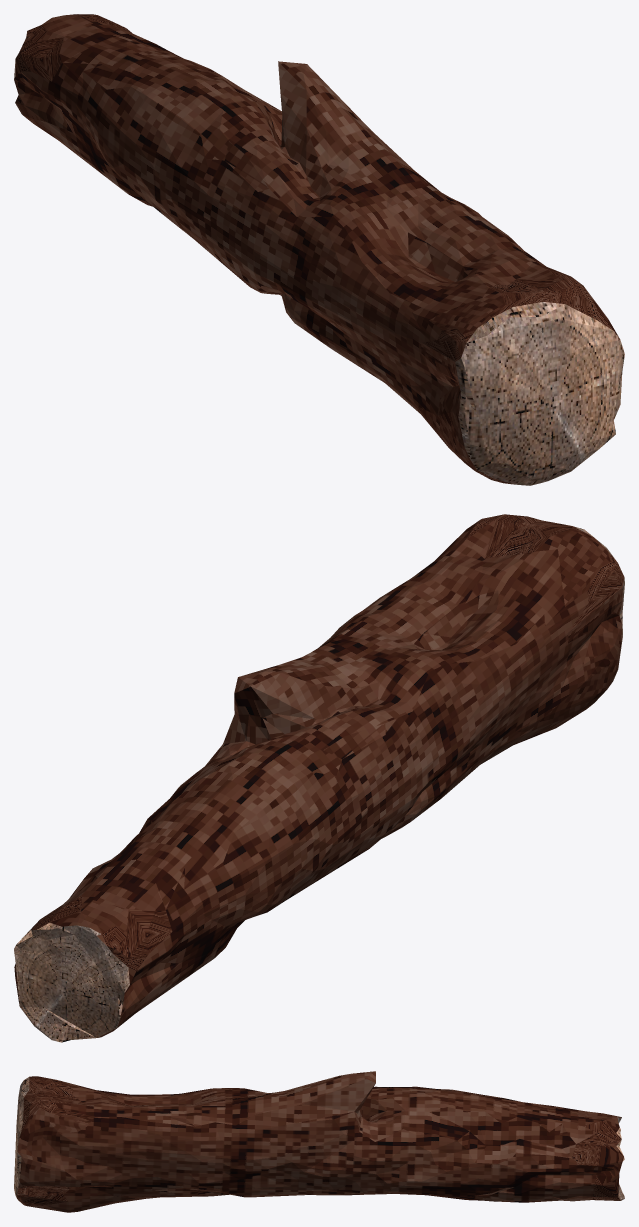
Rendered from pinetree_log.glb.
The picture shows the model from 3 angles, top to bottom: view 1: azimuth 30°, elevation 25°; view 2: azimuth 150°, elevation 25°; view 3: azimuth 270°, elevation 25°; orthographic projection. The views are drawn at different scales.
Visible parts, largest first — view 1: Cube.002; view 2: Cube.002; view 3: Cube.002.
Boxes of the visible parts, left/top/right/bottom form: Cube.002: left=14, top=14, right=624, bottom=485; Cube.002: left=14, top=514, right=624, bottom=1042; Cube.002: left=14, top=1071, right=624, bottom=1212.
Size of the model in its own units: 0.4446 by 0.5713 by 2.29.
Materials: 2 (2 with a texture image).
